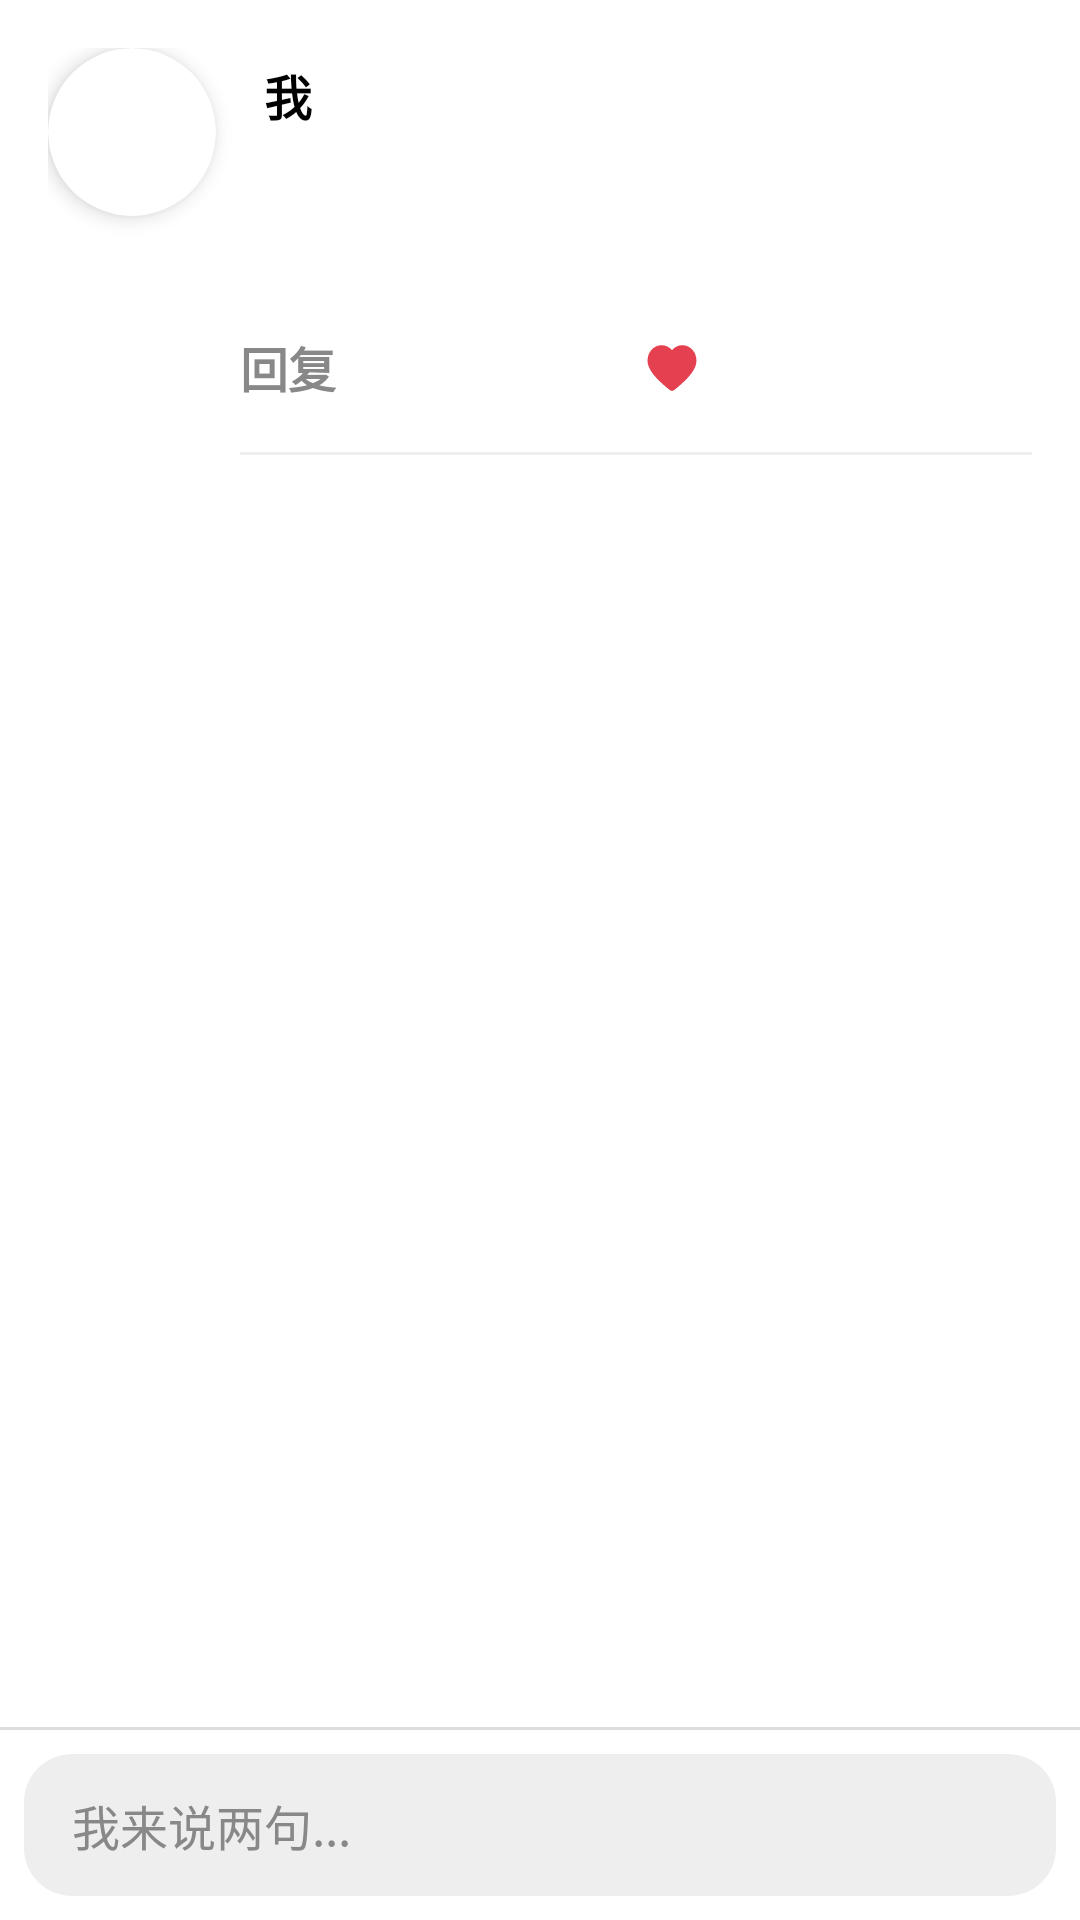

Named icons in this screenshot (1080px x 1920px) and their bounding boxes, (x1,y1,x2,y2):
love true: (647,345,697,391)
